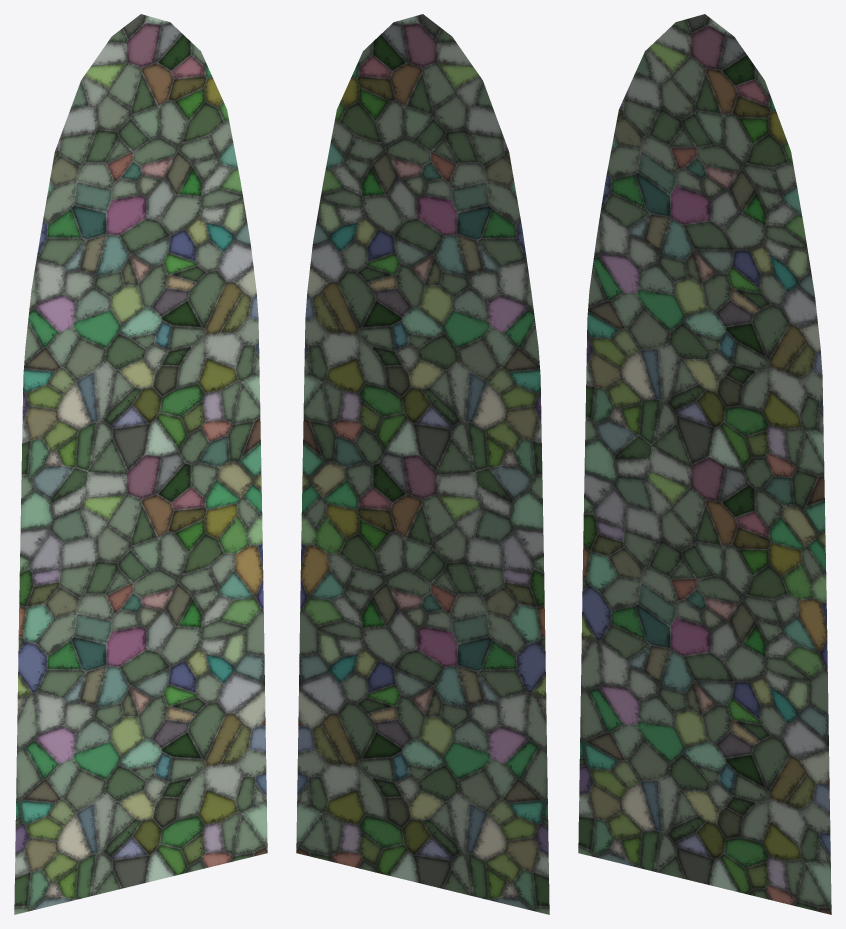
Rendered from vitral_test.glb.
3 renders of one model, left to right at view 1: azimuth 30°, elevation 25°; view 2: azimuth 150°, elevation 25°; view 3: azimuth 330°, elevation 25°, orthographic.
Parts seen in each view (by area): view 1: BoolVitral.001; view 2: BoolVitral.001; view 3: BoolVitral.001.
Boxes of the visible parts, x1=… form: BoolVitral.001: x1=14, y1=14, x2=267, y2=914; BoolVitral.001: x1=296, y1=14, x2=549, y2=914; BoolVitral.001: x1=578, y1=14, x2=831, y2=914.
Size of the model in its own units: 2.83 by 9.27 by 0.0119.
Materials: 1 (1 with a texture image).
